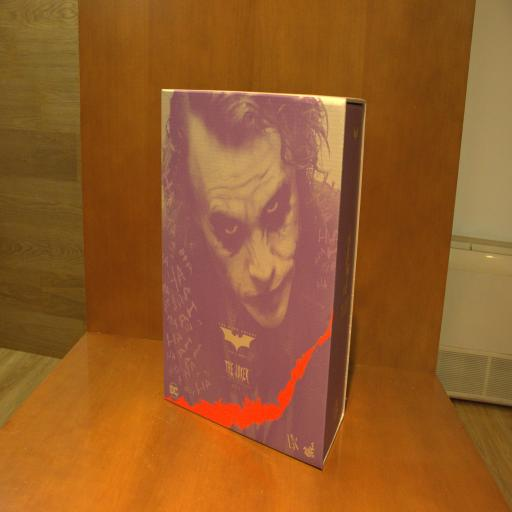Joker: (161, 89, 367, 471)
